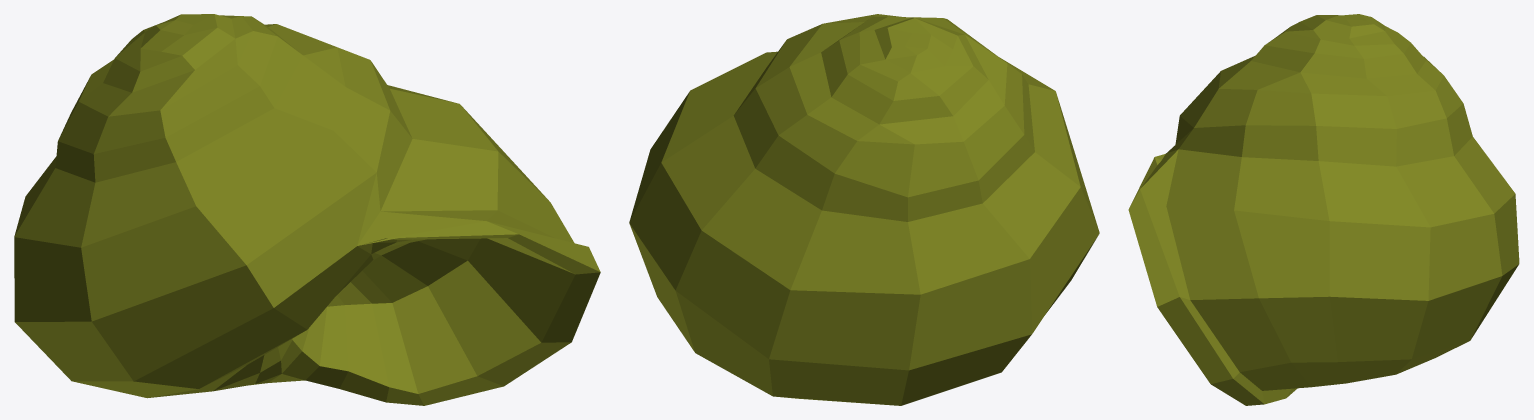
Rendered from Coral_02.fbx.
3 views of the same model, side by side, from view 1: azimuth 30°, elevation 25°; view 2: azimuth 150°, elevation 25°; view 3: azimuth 270°, elevation 25° (orthographic). The views are drawn at different scales.
Parts seen in each view (by area): view 1: Coral_02; view 2: Coral_02; view 3: Coral_02.
Boxes of the visible parts, <box> form: Coral_02: <box>14,14,600,405</box>; Coral_02: <box>629,14,1099,405</box>; Coral_02: <box>1128,14,1519,405</box>.
Size of the model in its own units: 49.1 by 40.98 by 46.64.
